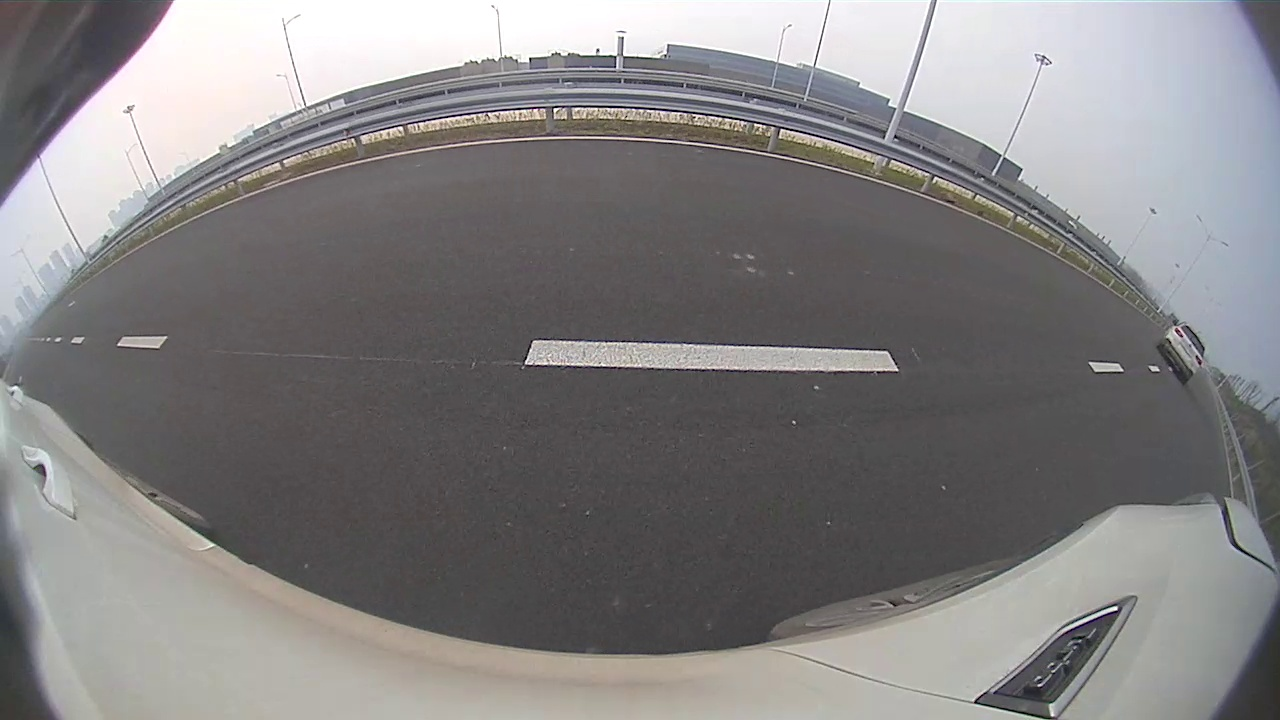car: (1161, 316, 1208, 385)
